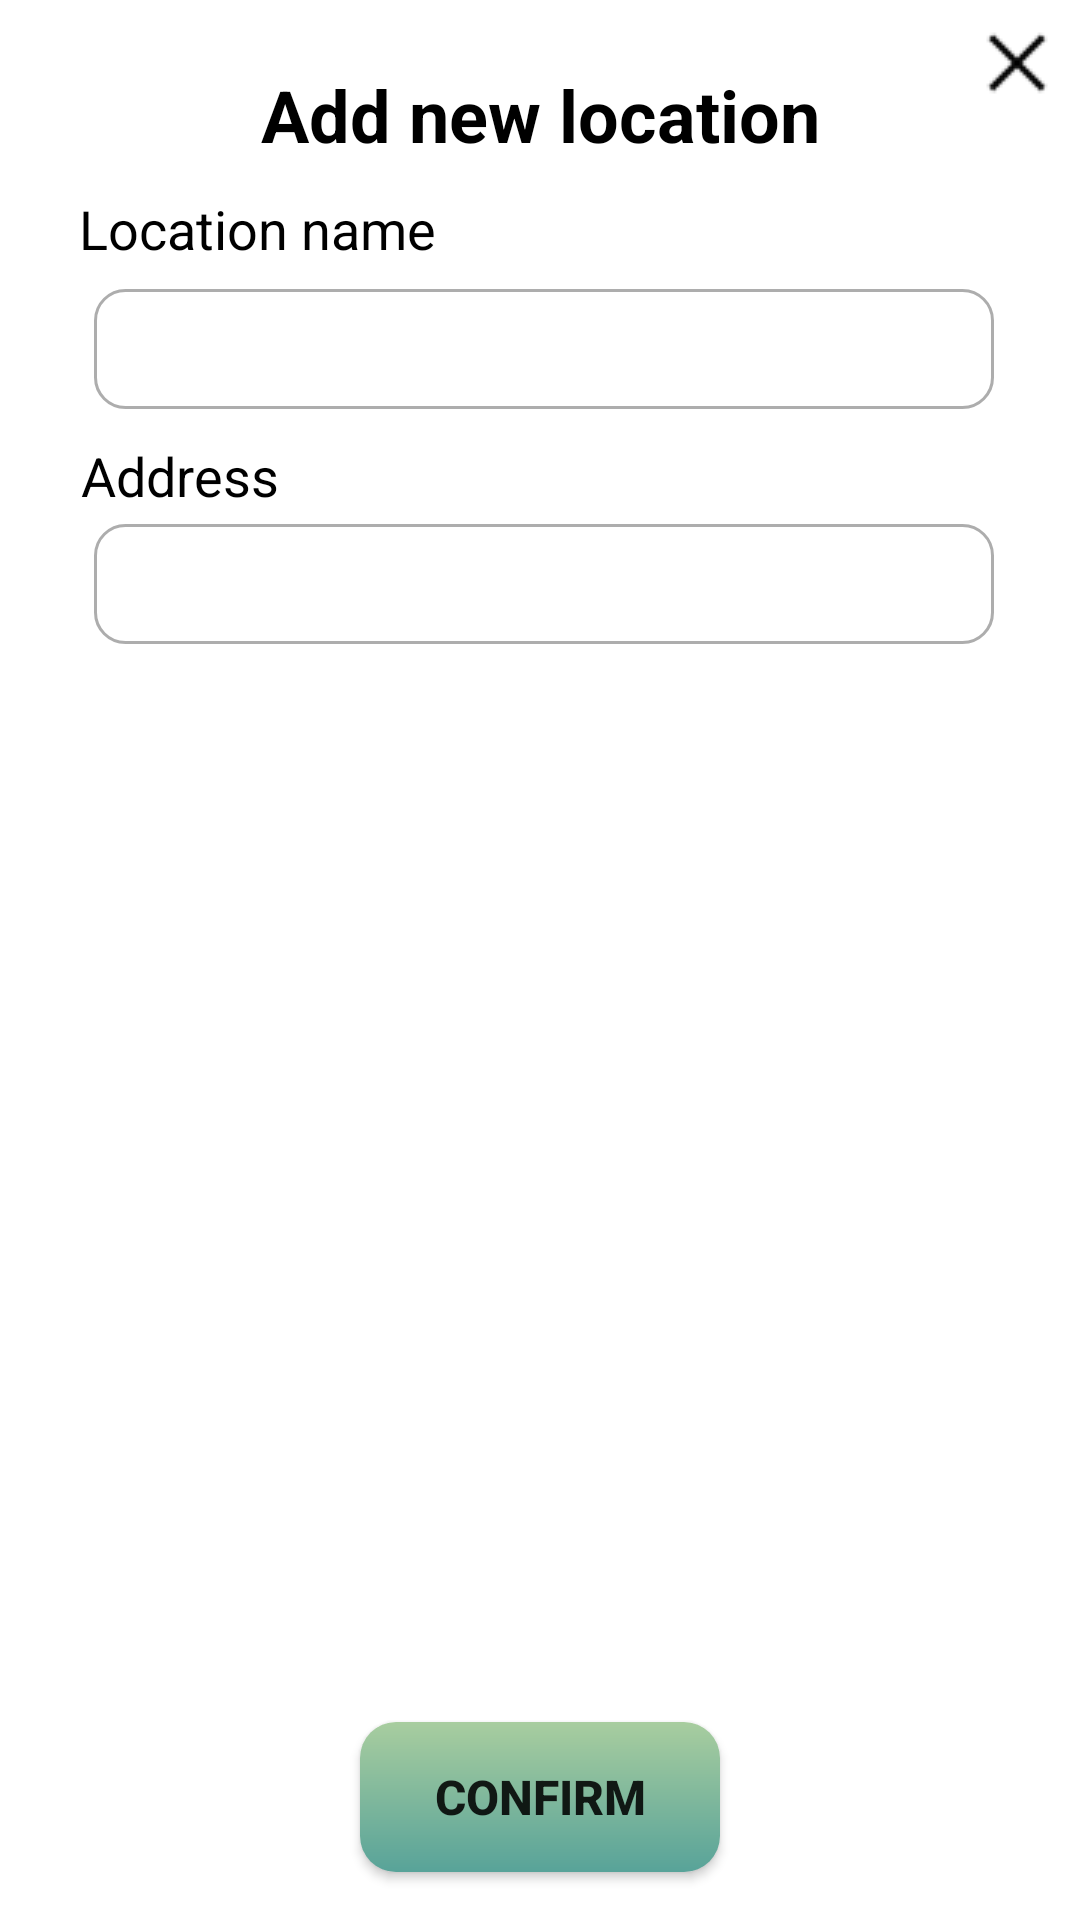

Screen size 1080 x 1920. Icon name, then its box in pixels as bbox=(x1, y1, x2, y2):
close: bbox=(988, 34, 1046, 92)
